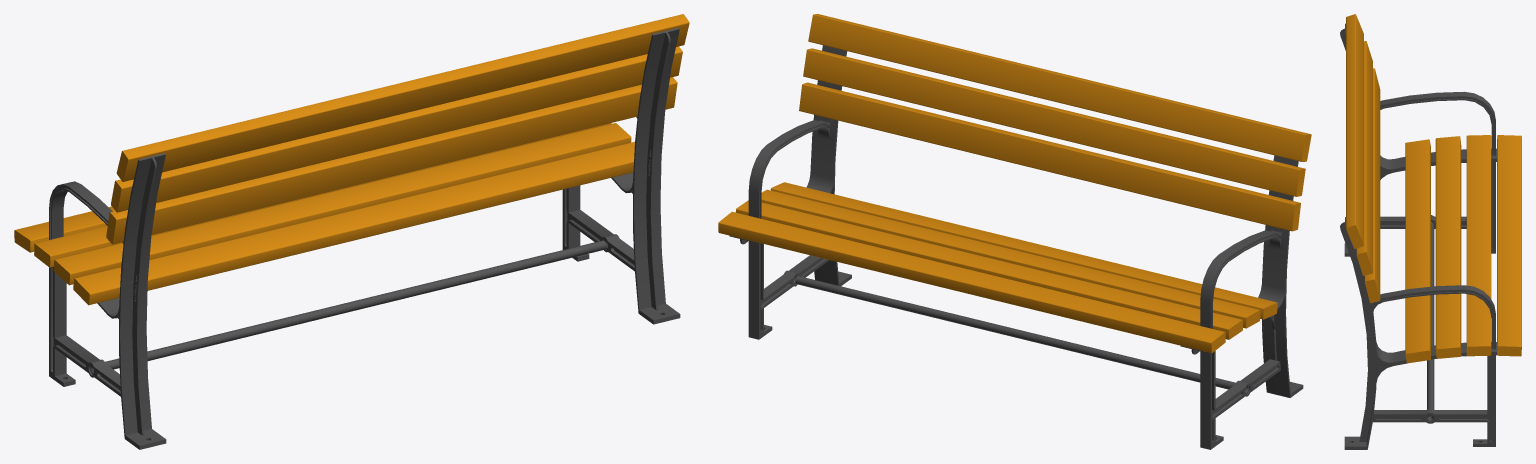
3 renders of one model, left to right at view 1: azimuth 30°, elevation 25°; view 2: azimuth 150°, elevation 25°; view 3: azimuth 270°, elevation 25°, orthographic. The views are drawn at different scales.
Parts seen in each view (by area): view 1: mesh1_mesh1-geometry, mesh6_mesh6-geometry, mesh3_mesh3-geometry; view 2: mesh1_mesh1-geometry, mesh6_mesh6-geometry, mesh3_mesh3-geometry; view 3: mesh1_mesh1-geometry, mesh6_mesh6-geometry, mesh3_mesh3-geometry.
Part boxes in pixels (left/top/right/bottom): mesh1_mesh1-geometry: left=14, top=14, right=689, bottom=305; mesh6_mesh6-geometry: left=49, top=27, right=680, bottom=449; mesh3_mesh3-geometry: left=105, top=240, right=606, bottom=369; mesh1_mesh1-geometry: left=718, top=14, right=1311, bottom=353; mesh6_mesh6-geometry: left=729, top=45, right=1303, bottom=449; mesh3_mesh3-geometry: left=795, top=276, right=1235, bottom=389; mesh1_mesh1-geometry: left=1346, top=14, right=1521, bottom=363; mesh6_mesh6-geometry: left=1340, top=23, right=1496, bottom=449; mesh3_mesh3-geometry: left=1427, top=222, right=1434, bottom=416.
Bounding box in the file's own units: 0.8491 × 0.4286 × 0.3089.
